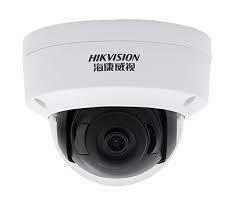maru: (22, 59, 209, 185)
